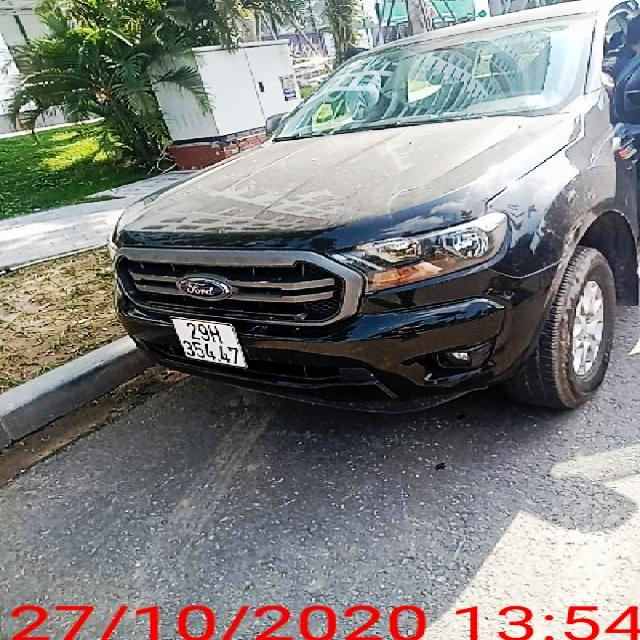license_plate: (170, 318, 248, 368)
